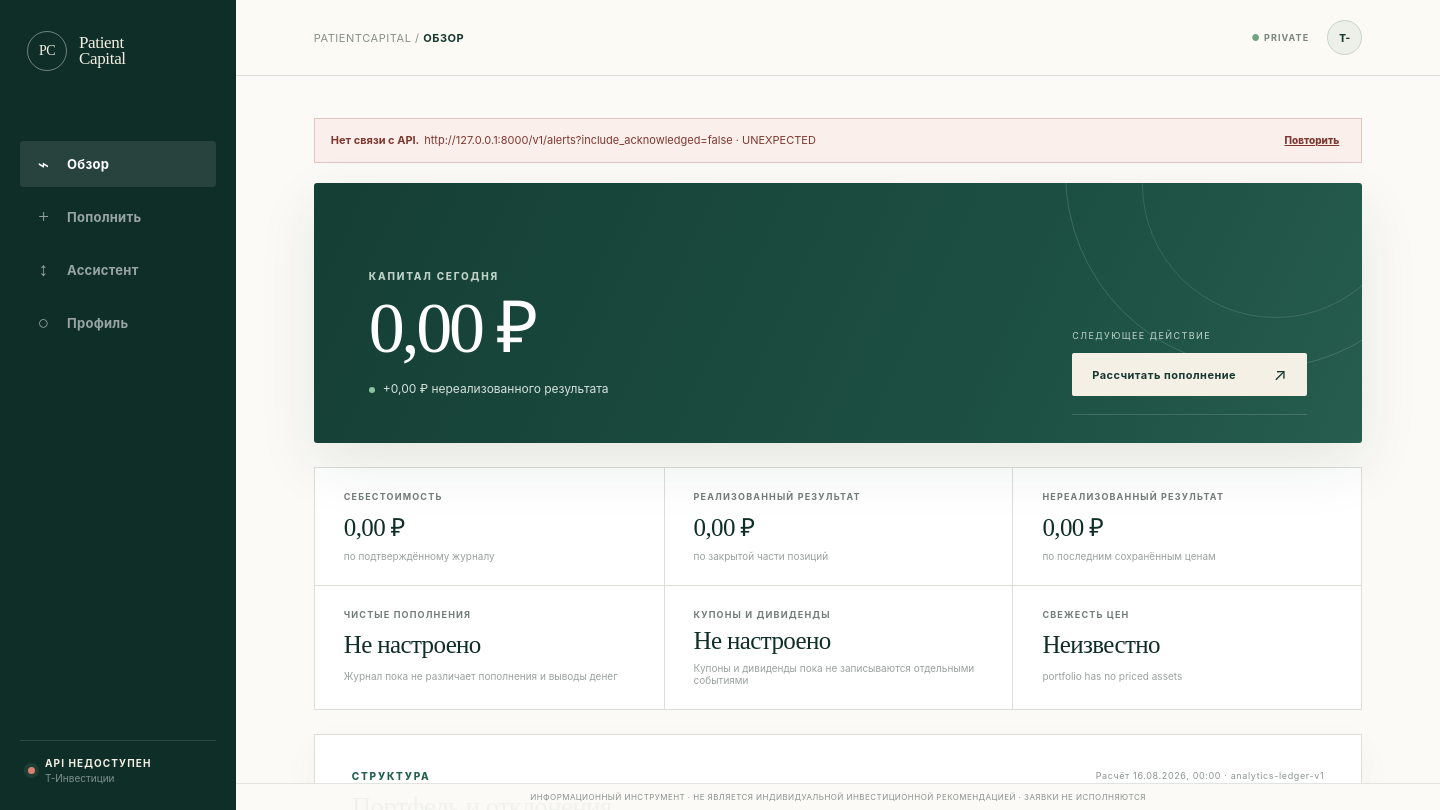
Scenario: PatientCapitalApp › turns free text into a reviewable draft and shows unknown fields
Check: the text "Т-Инвестиции" is shown, box [45,772,114,784]
Click the button "↕ Ассистент" at (118, 270), box [20,247,216,293]
(page scrolled)
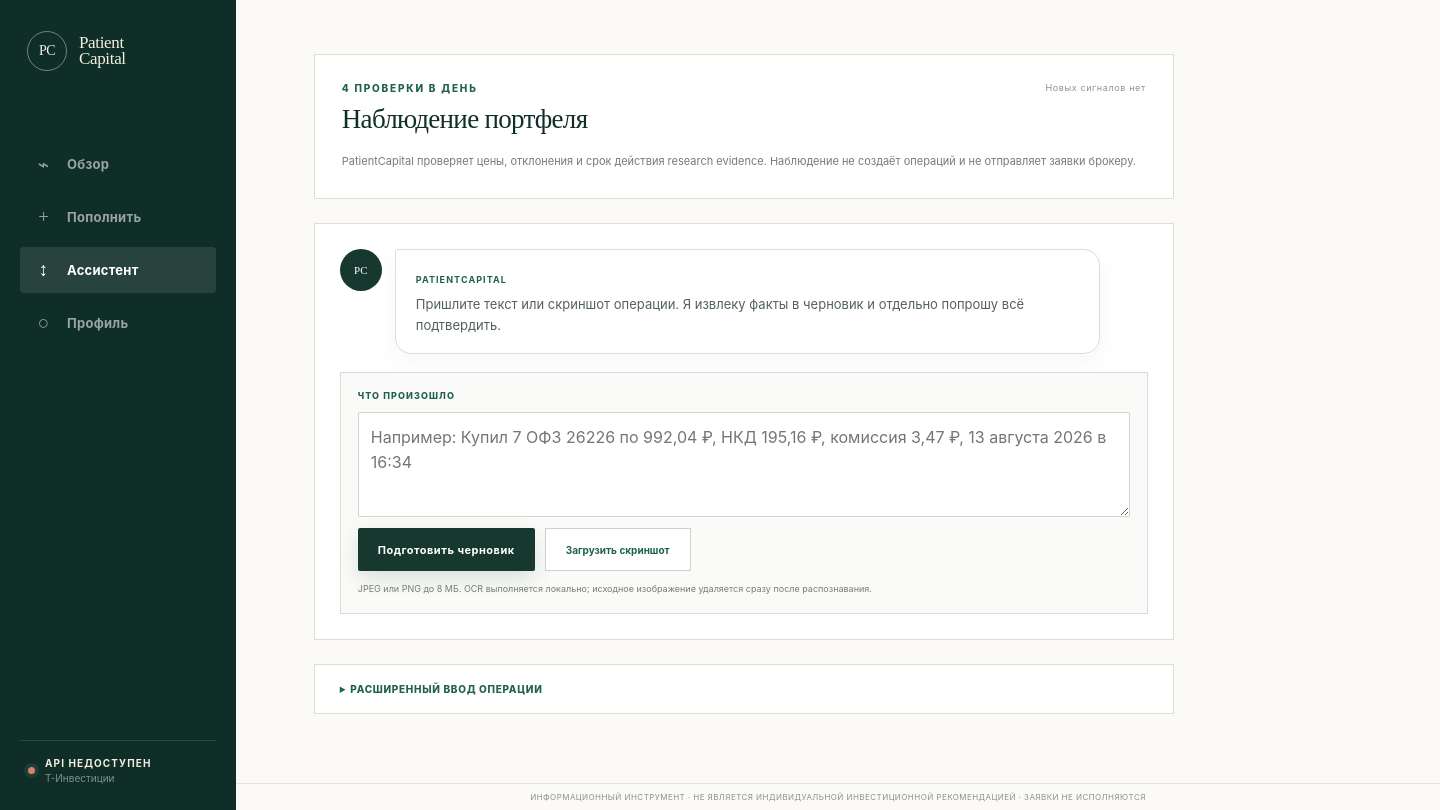
Replace the text in the text box labelled "Что произошло" with "Купил ОФЗ 26226" at (744, 465), box [358,412,1130,517]
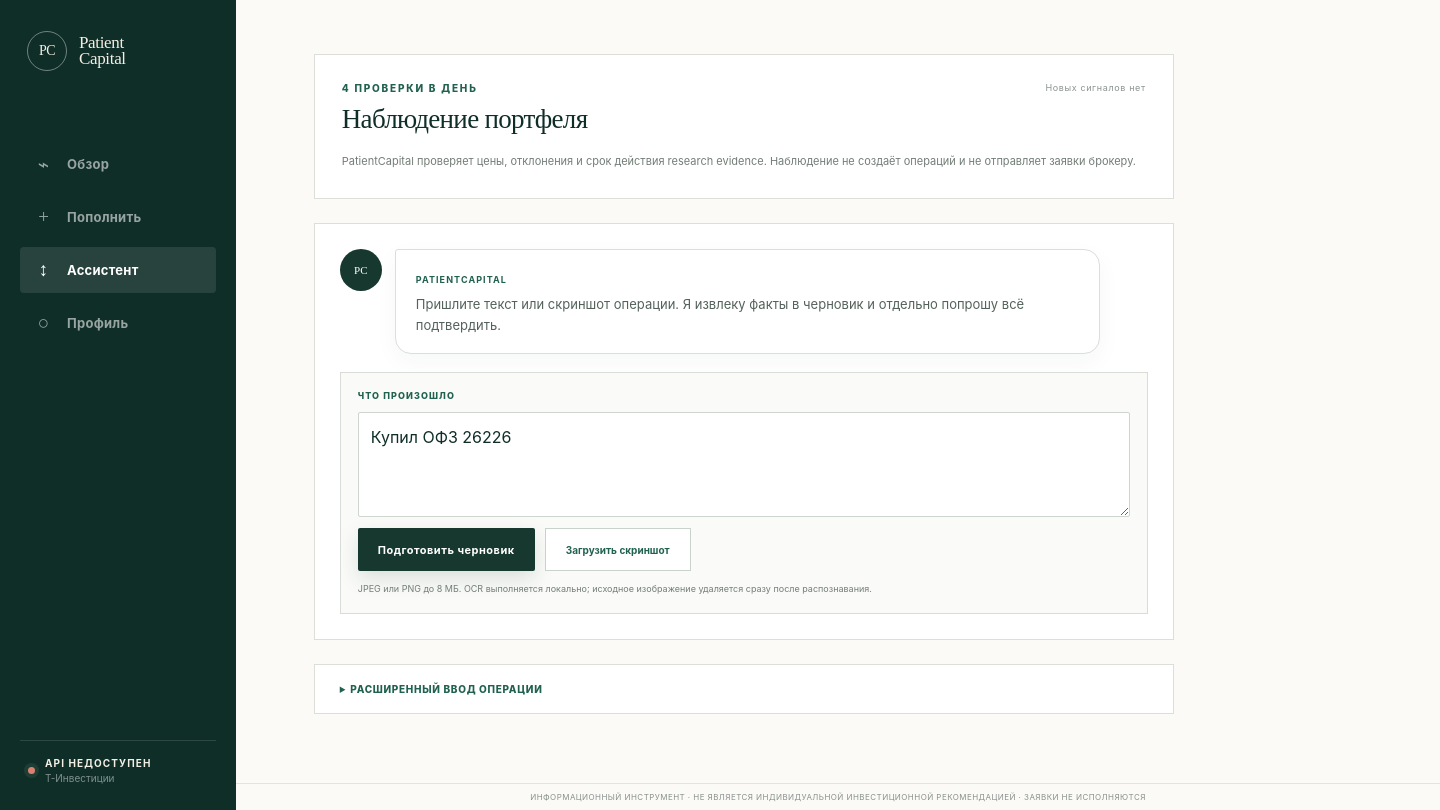
Check: the form labelled "Что произошло" is shown, box [340,372,1148,614]
Click the button "Подготовить черновик" at (446, 550), box [358,528,535,571]
(page scrolled)
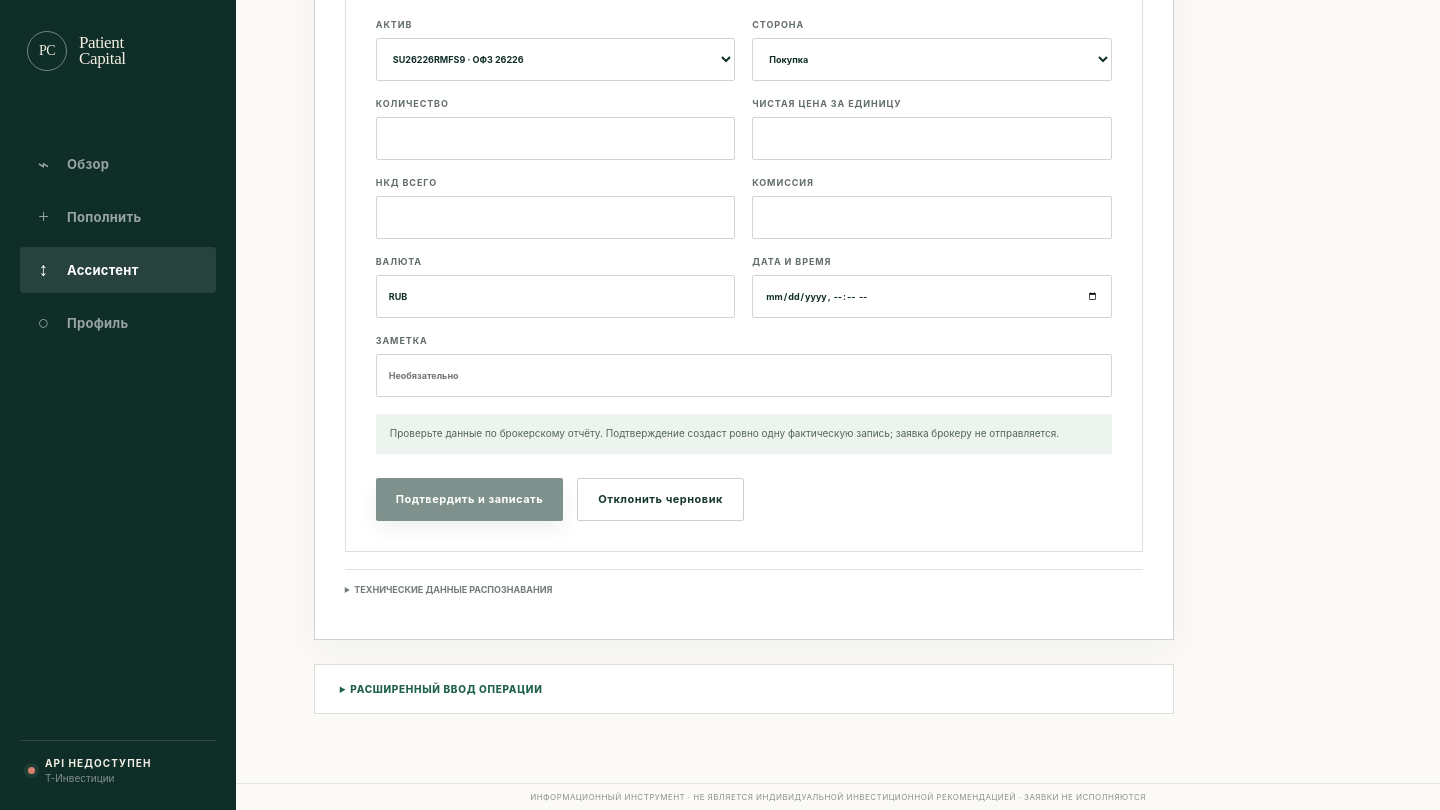
Check: the button "Подтвердить и записать" is disabled, box [376,478,563,521]
